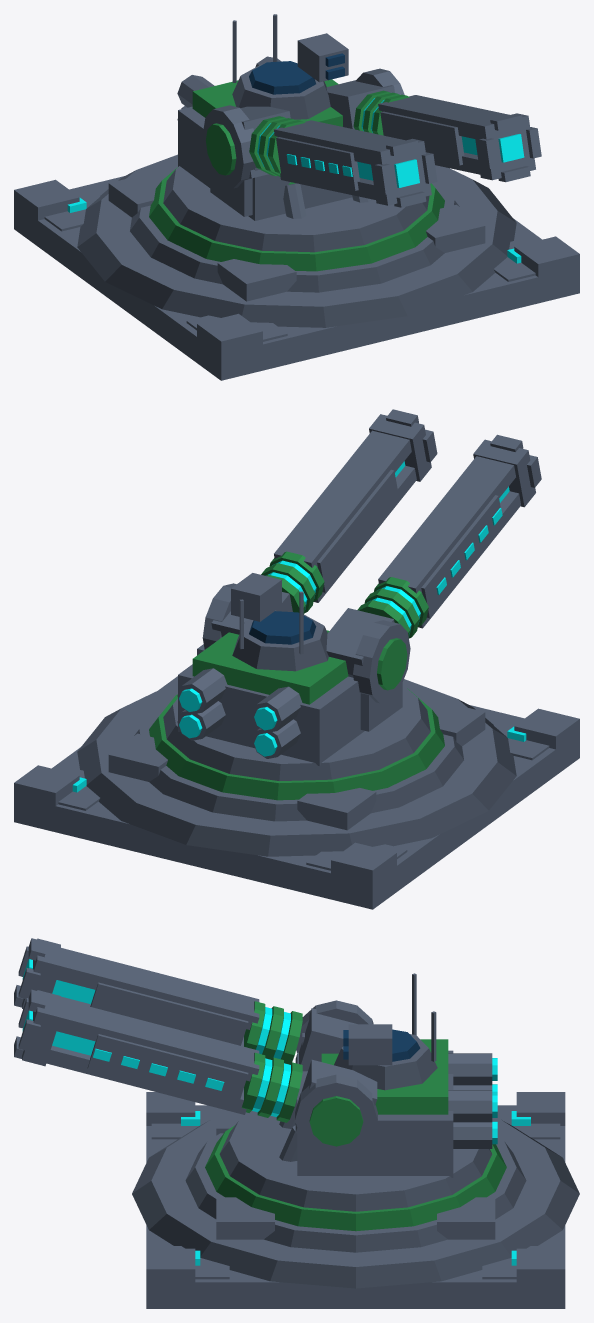
The model's file is turret.obj.
3 views of the same model, one above another, from view 1: azimuth 30°, elevation 25°; view 2: azimuth 150°, elevation 25°; view 3: azimuth 270°, elevation 25° (orthographic).
Parts seen in each view (by area): view 1: PulseDefenseCannon; view 2: PulseDefenseCannon; view 3: PulseDefenseCannon.
Part boxes in pixels (x1=…): PulseDefenseCannon: x1=14, y1=14, x2=579, y2=380; PulseDefenseCannon: x1=14, y1=409, x2=579, y2=909; PulseDefenseCannon: x1=14, y1=938, x2=579, y2=1308.
Bounding box in the file's own units: 0.92 × 0.5672 × 1.16.
